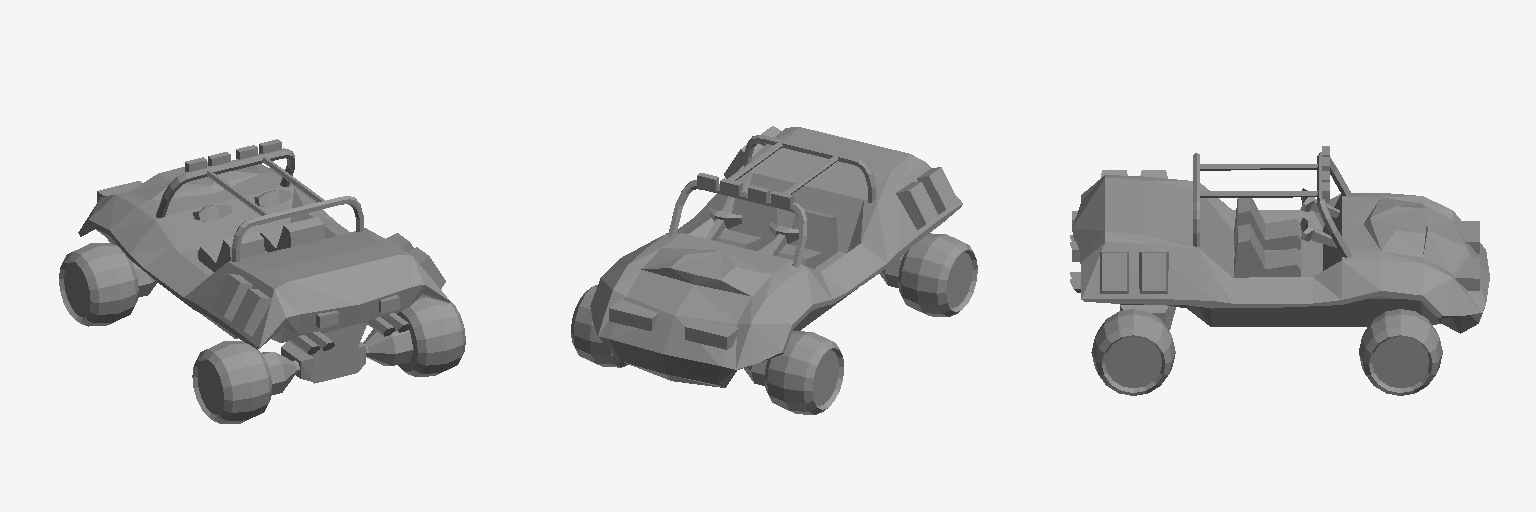
The model's file is jeep1.obj.
The picture shows the model from 3 angles: view 1: azimuth 30°, elevation 25°; view 2: azimuth 150°, elevation 25°; view 3: azimuth 270°, elevation 25°; orthographic projection.
Parts seen in each view (by area): view 1: main, flw, rlw, rrw; view 2: main, rlw, flw, frw, rsteer, lsteer; view 3: main, rrw, frw.
Part boxes in pixels (bbox=[...]): main: bbox=[78, 139, 450, 395]; flw: bbox=[59, 243, 138, 326]; rlw: bbox=[192, 341, 271, 423]; rrw: bbox=[397, 296, 465, 376]; main: bbox=[590, 126, 962, 387]; rlw: bbox=[898, 233, 977, 316]; flw: bbox=[764, 331, 843, 414]; frw: bbox=[571, 285, 628, 367]; rsteer: bbox=[706, 208, 743, 240]; lsteer: bbox=[767, 222, 798, 255]; main: bbox=[1070, 146, 1489, 333]; rrw: bbox=[1091, 309, 1175, 395]; frw: bbox=[1359, 309, 1442, 395].
Size of the model in its own units: 0.2808 by 0.1941 by 0.4228.